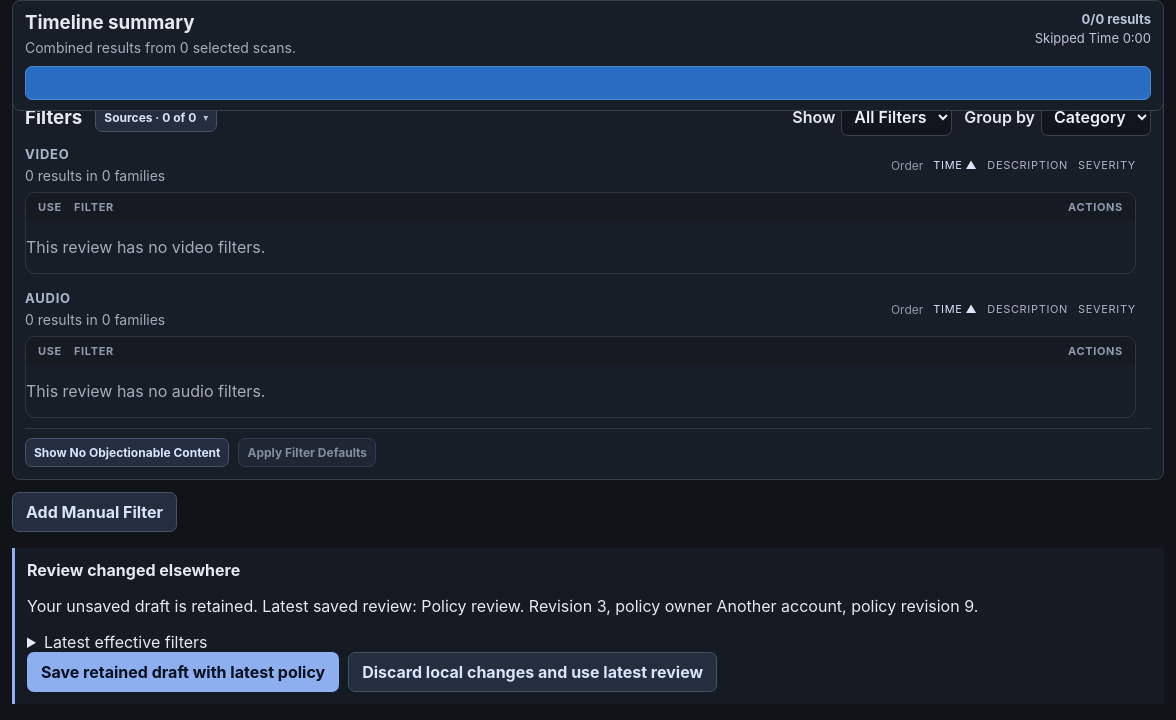
Test case: explicitly saves a retained draft with fresh tokens without requiring timing permission
(page scrolled)
What coordinates should you click on to do the following:
click the button "Save retained draft with latest policy"
I would click on:
 (183, 672)
Its box is 27,652 -> 339,692.
(page scrolled)
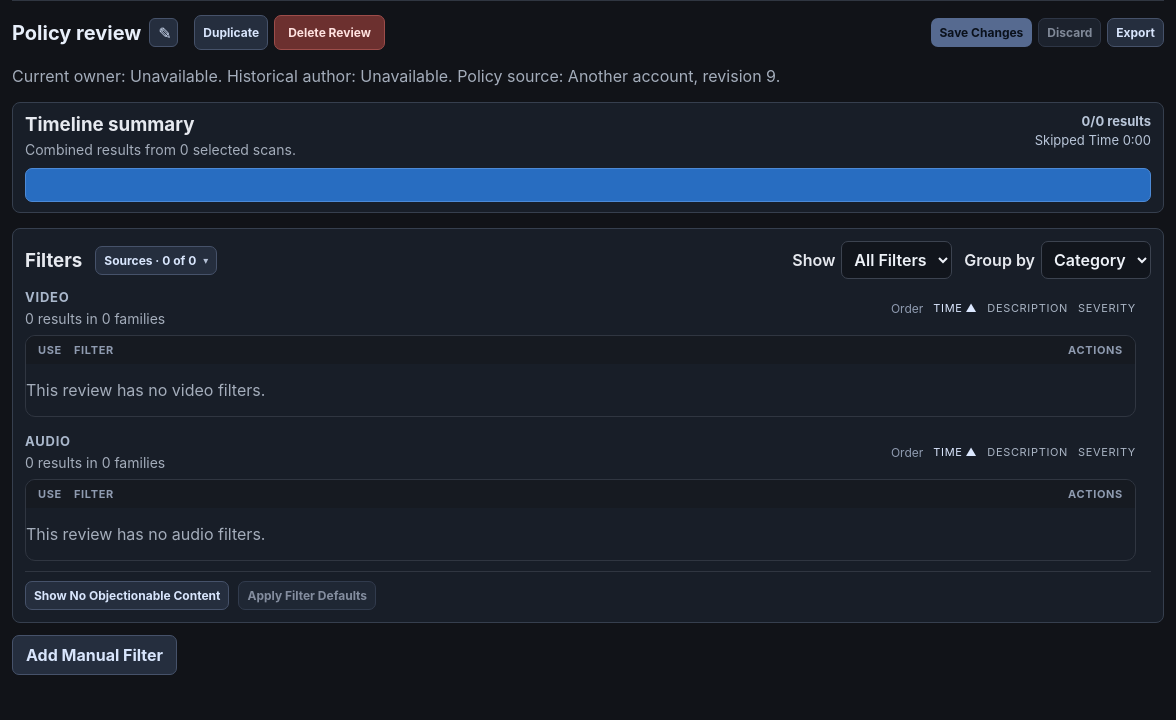
Expected: the button "Save retained draft with latest policy" is gone
